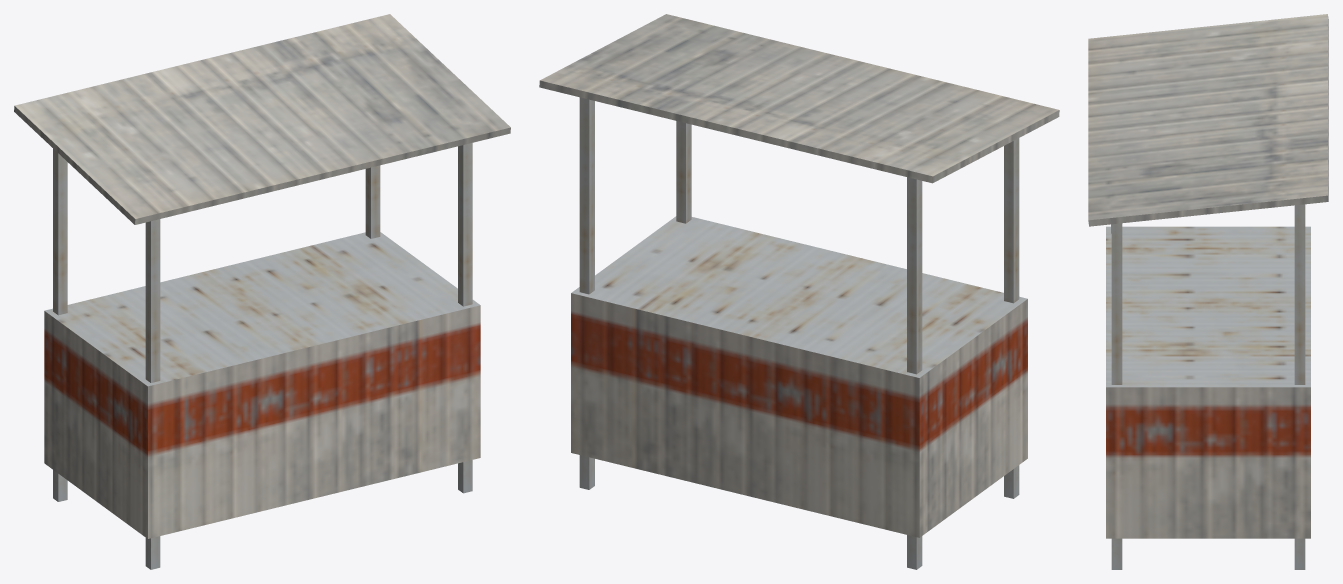
The model's file is MarketStall_4.fbx.
3 renders of one model, left to right at view 1: azimuth 30°, elevation 25°; view 2: azimuth 150°, elevation 25°; view 3: azimuth 270°, elevation 25°, orthographic. The views are drawn at different scales.
Visible parts, largest first — view 1: MarketStall_4; view 2: MarketStall_4; view 3: MarketStall_4.
Boxes of the visible parts, x1,y1,x2,y2 form: MarketStall_4: (14, 14, 510, 569); MarketStall_4: (539, 14, 1059, 569); MarketStall_4: (1088, 14, 1328, 569).
Bounding box in the file's own units: 226 × 224 × 126.
